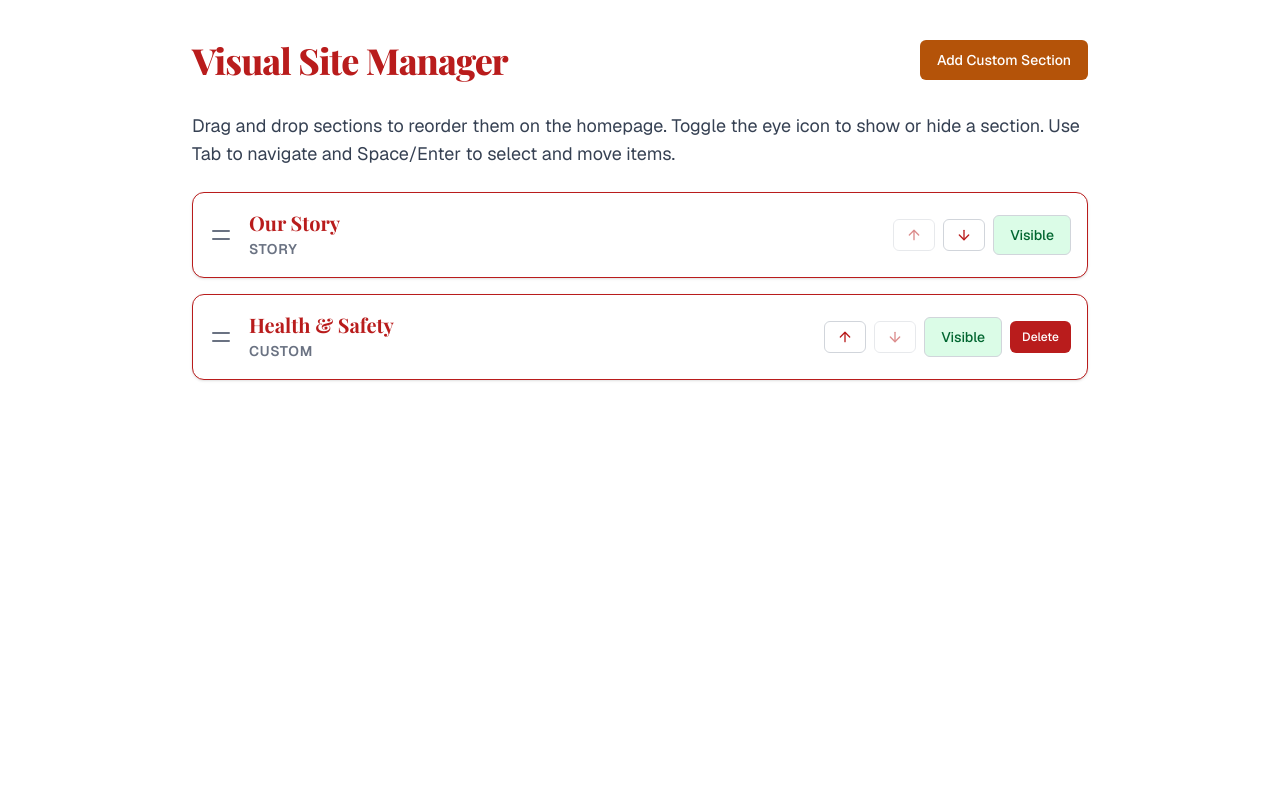
it: SiteManagerPage and DragDropContainer › cancels deletion when Cancel button in confirmation modal is clicked
This screenshot has width=1280, height=800.
Click the button with aria-label "Delete Health & Safety" at (1041, 337), box [1010,321,1071,353]
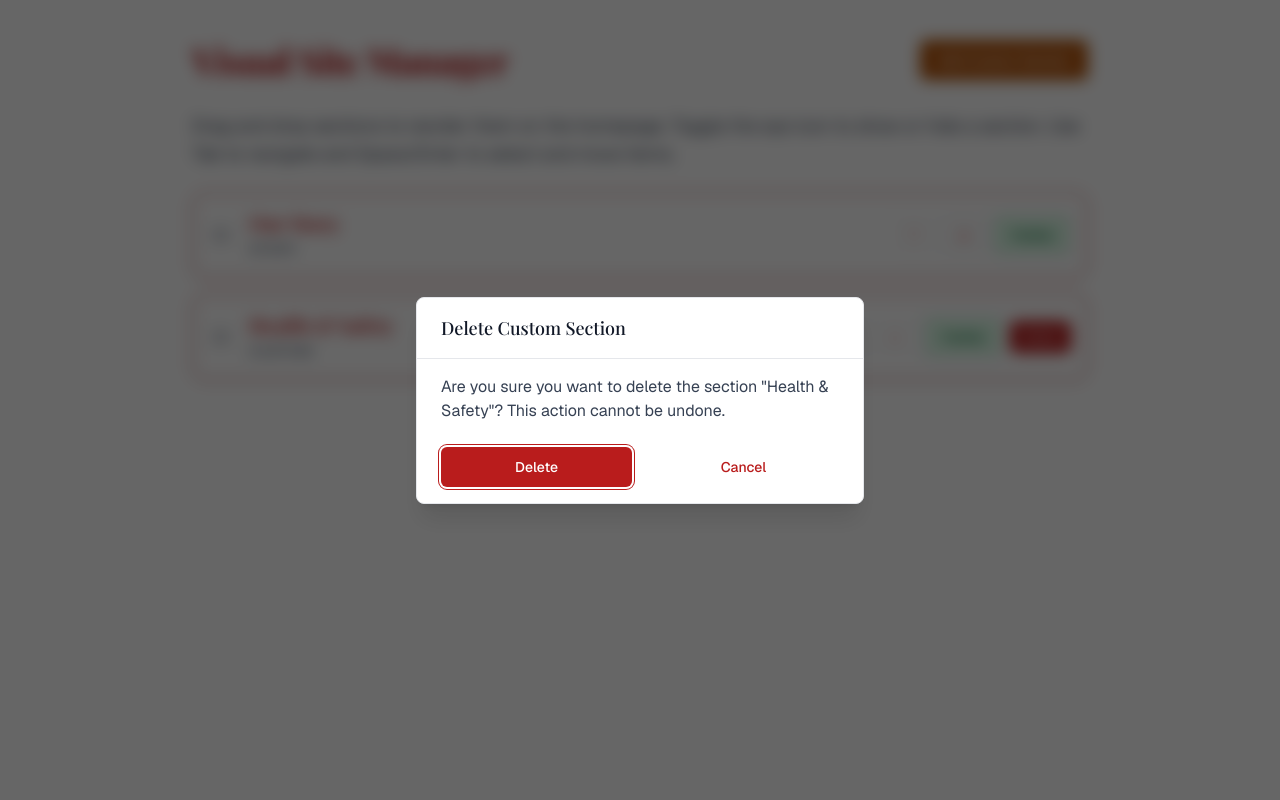
Click the button "Cancel" at (744, 466), box [648,446,839,486]
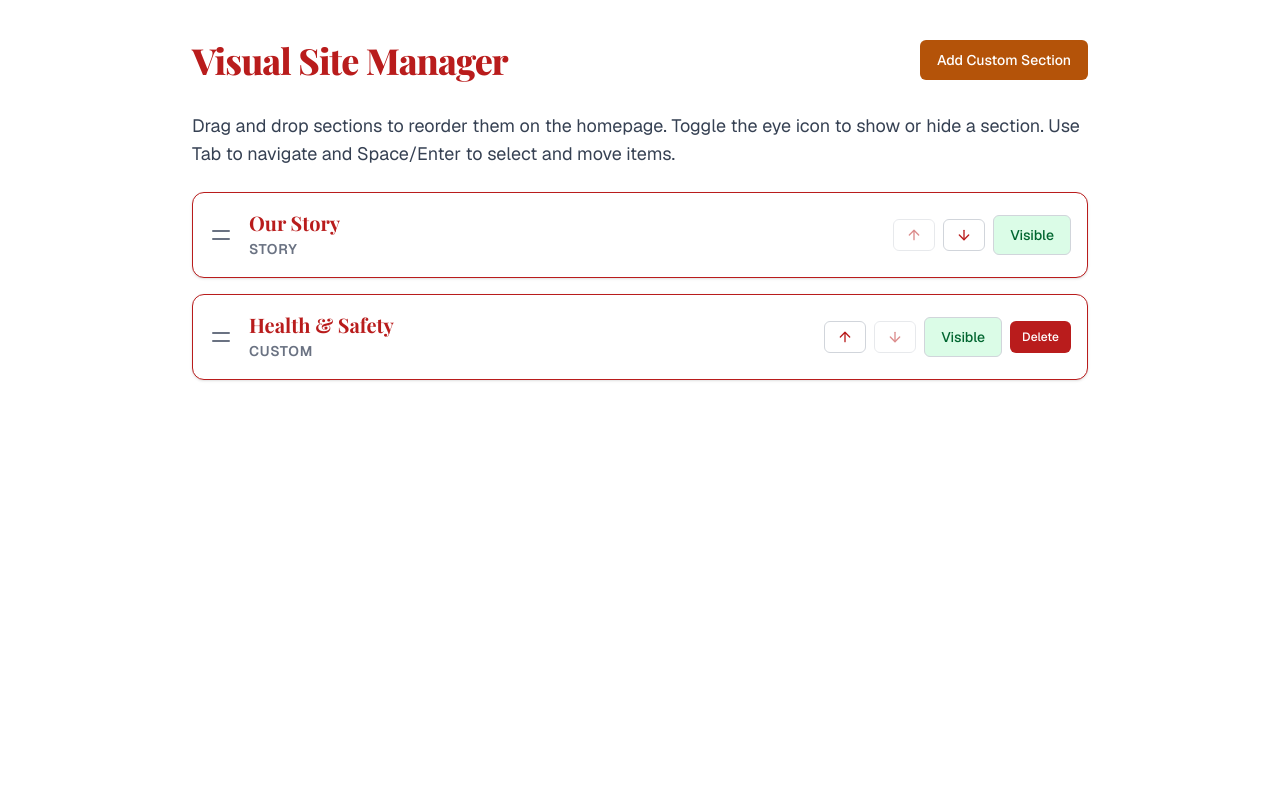
Expected: the heading "Delete Custom Section" is gone
